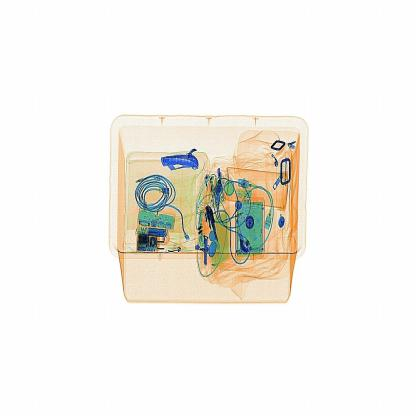knife: (149, 146, 206, 182)
